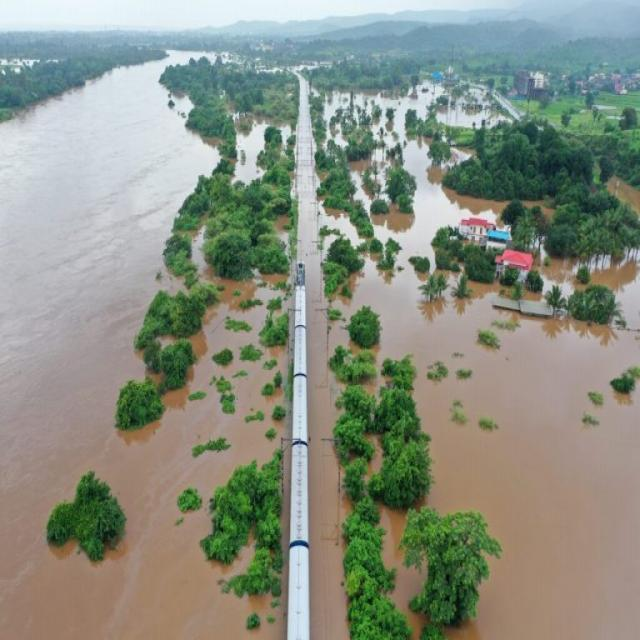flood: (294, 80, 640, 640), (0, 51, 292, 640), (440, 90, 509, 124), (234, 120, 268, 180), (537, 256, 586, 296), (610, 179, 640, 210)
house: (492, 248, 536, 297), (456, 211, 506, 248)
